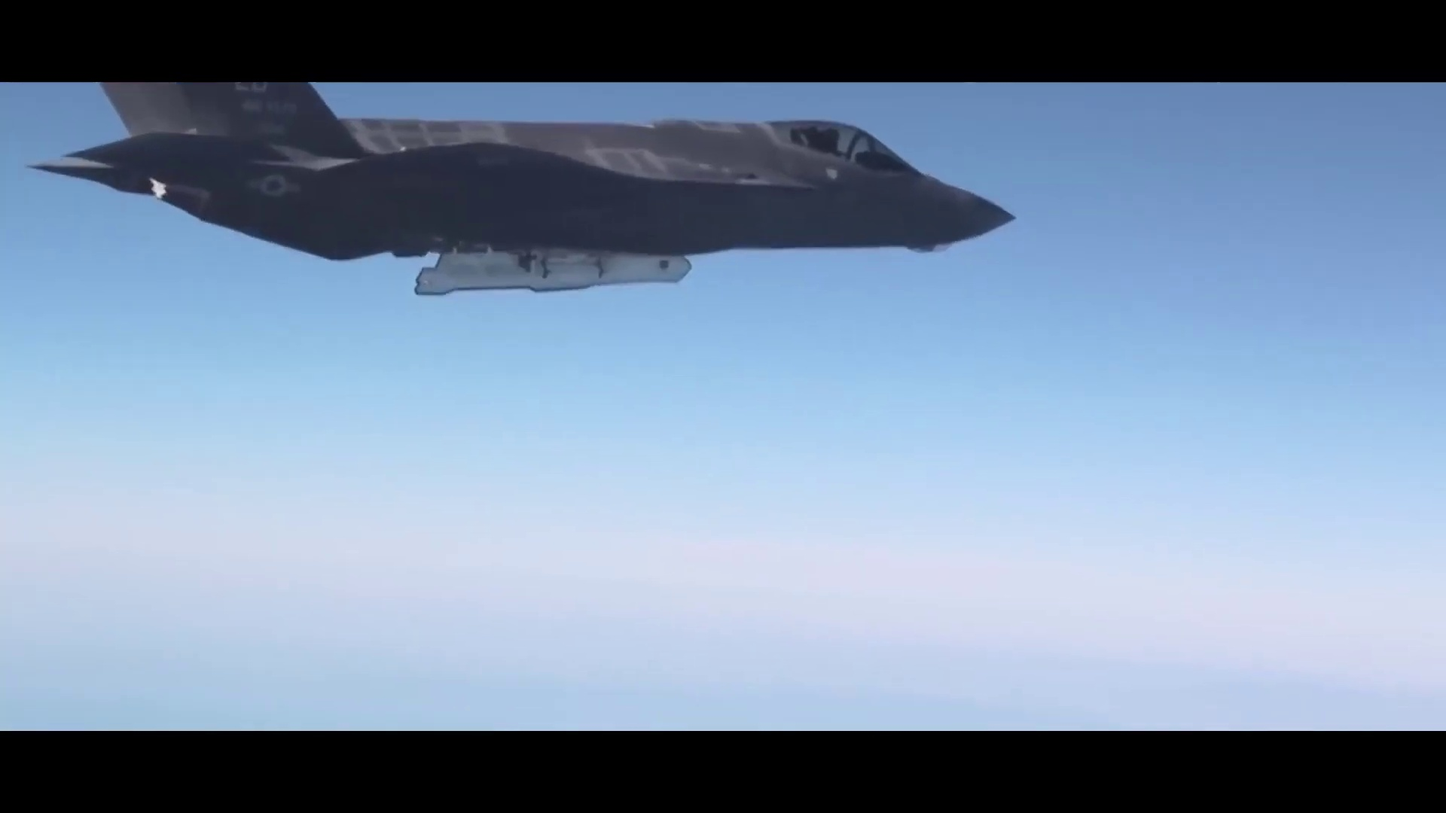F35: (24, 83, 1017, 295)
